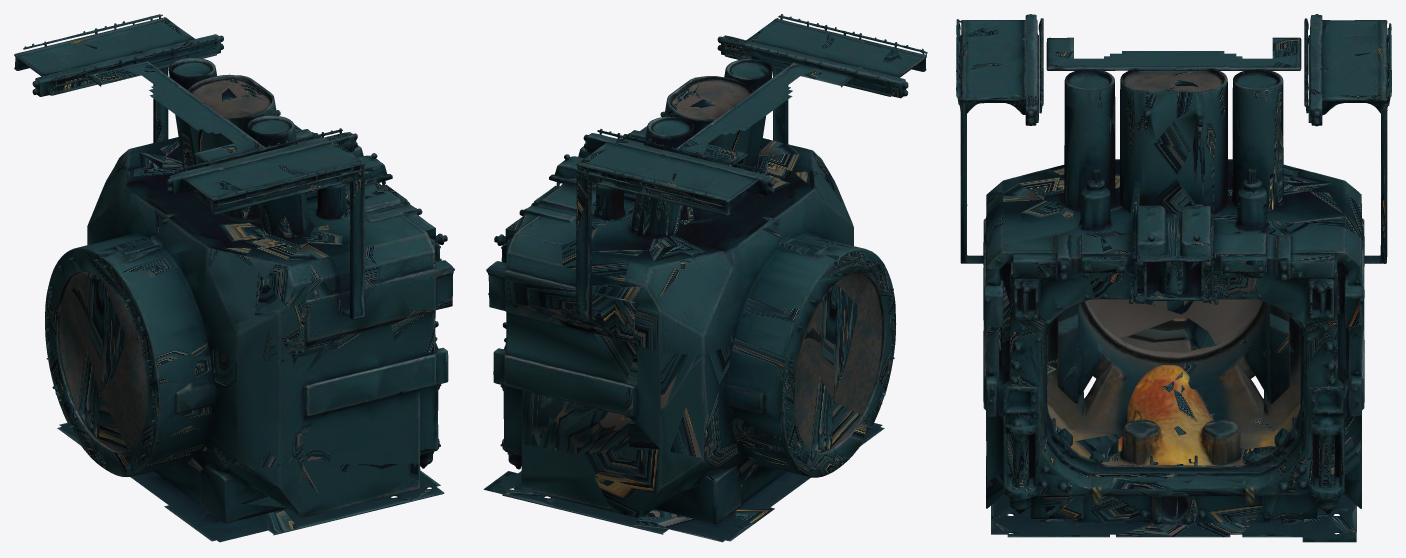
File: incinerator.glb
The picture shows the model from 3 angles, left to right: view 1: azimuth 30°, elevation 25°; view 2: azimuth 150°, elevation 25°; view 3: azimuth 270°, elevation 25°; orthographic projection. The views are drawn at different scales.
Visible parts, largest first — view 1: tripo_node_73995991-1f72-4787-82f0-6d2898c64077; view 2: tripo_node_73995991-1f72-4787-82f0-6d2898c64077; view 3: tripo_node_73995991-1f72-4787-82f0-6d2898c64077.
Boxes of the visible parts, x1,y1,x2,y2 form: tripo_node_73995991-1f72-4787-82f0-6d2898c64077: (14, 14, 454, 542); tripo_node_73995991-1f72-4787-82f0-6d2898c64077: (483, 14, 927, 542); tripo_node_73995991-1f72-4787-82f0-6d2898c64077: (956, 14, 1391, 542).
Size of the model in its own units: 0.7938 by 0.9998 by 0.9997.
1 material, 1 textured.
